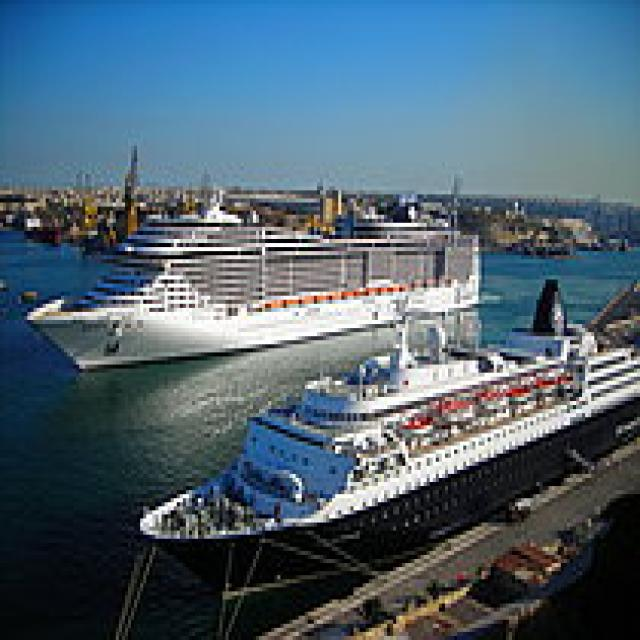Cruise: (131, 267, 637, 567), (19, 182, 482, 369)
